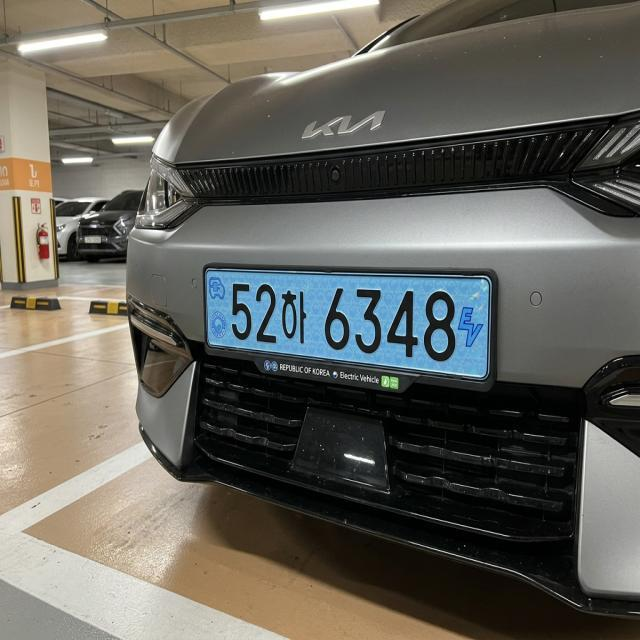car: (190, 253, 513, 409)
carev: (455, 287, 488, 360), (203, 267, 232, 349)
